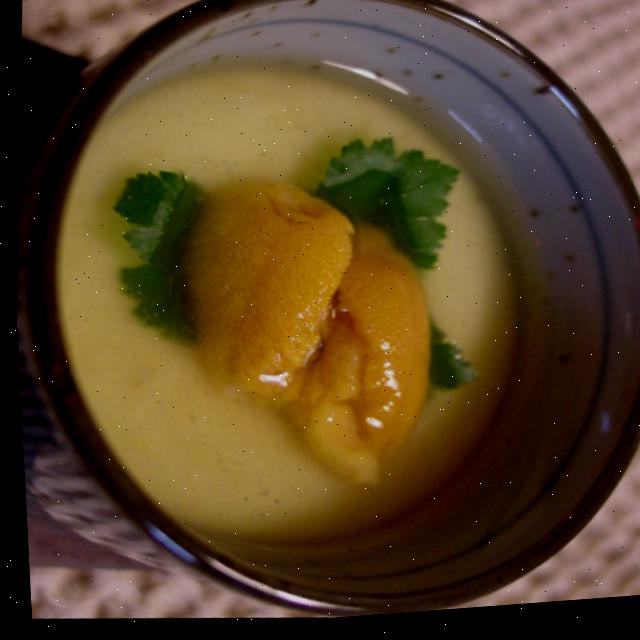鸡蛋料理: (302, 0, 640, 379)
